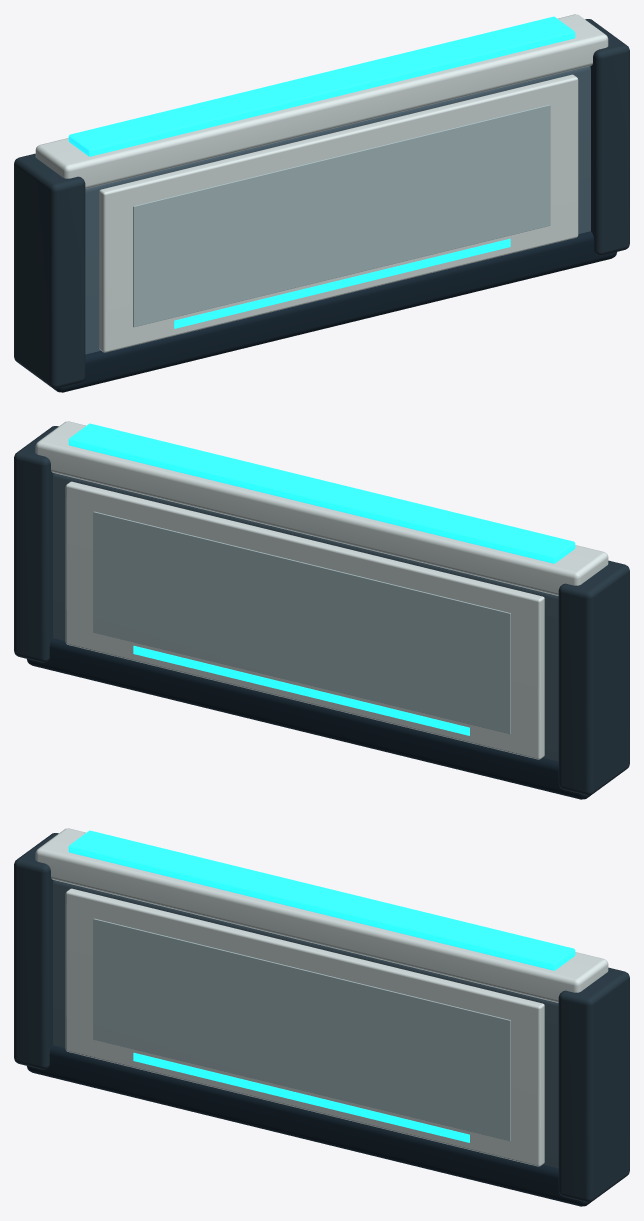
File: SM_TestArena_Divider.glb
3 renders of one model, top to bottom at view 1: azimuth 30°, elevation 25°; view 2: azimuth 150°, elevation 25°; view 3: azimuth 330°, elevation 25°, orthographic.
Parts seen in each view (by area): view 1: SM_TestArena_Divider; view 2: SM_TestArena_Divider; view 3: SM_TestArena_Divider.
Boxes of the visible parts, <box> form: SM_TestArena_Divider: <box>14,14,629,392</box>; SM_TestArena_Divider: <box>14,421,629,799</box>; SM_TestArena_Divider: <box>14,828,629,1206</box>.
Bounding box in the file's own units: 1.46 × 0.56 × 0.18.
